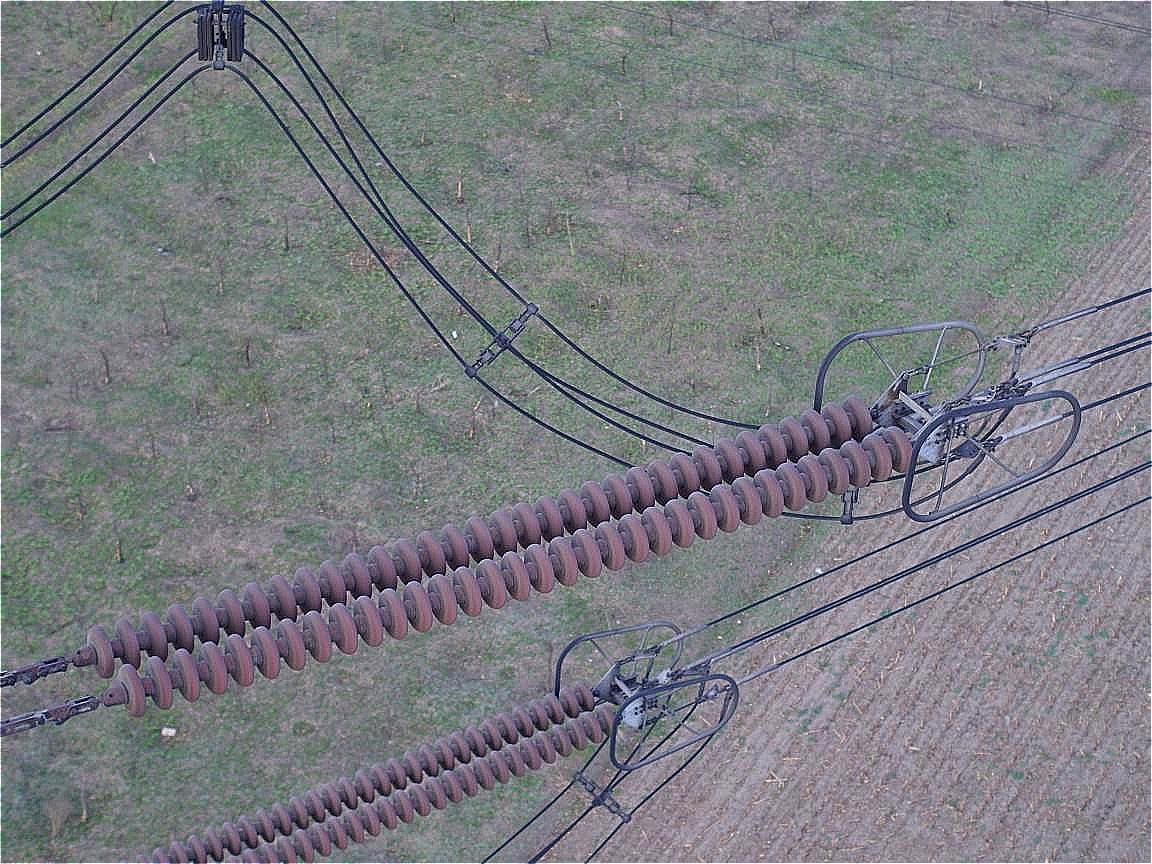insultor1: (86, 397, 911, 718), (180, 684, 611, 862)
